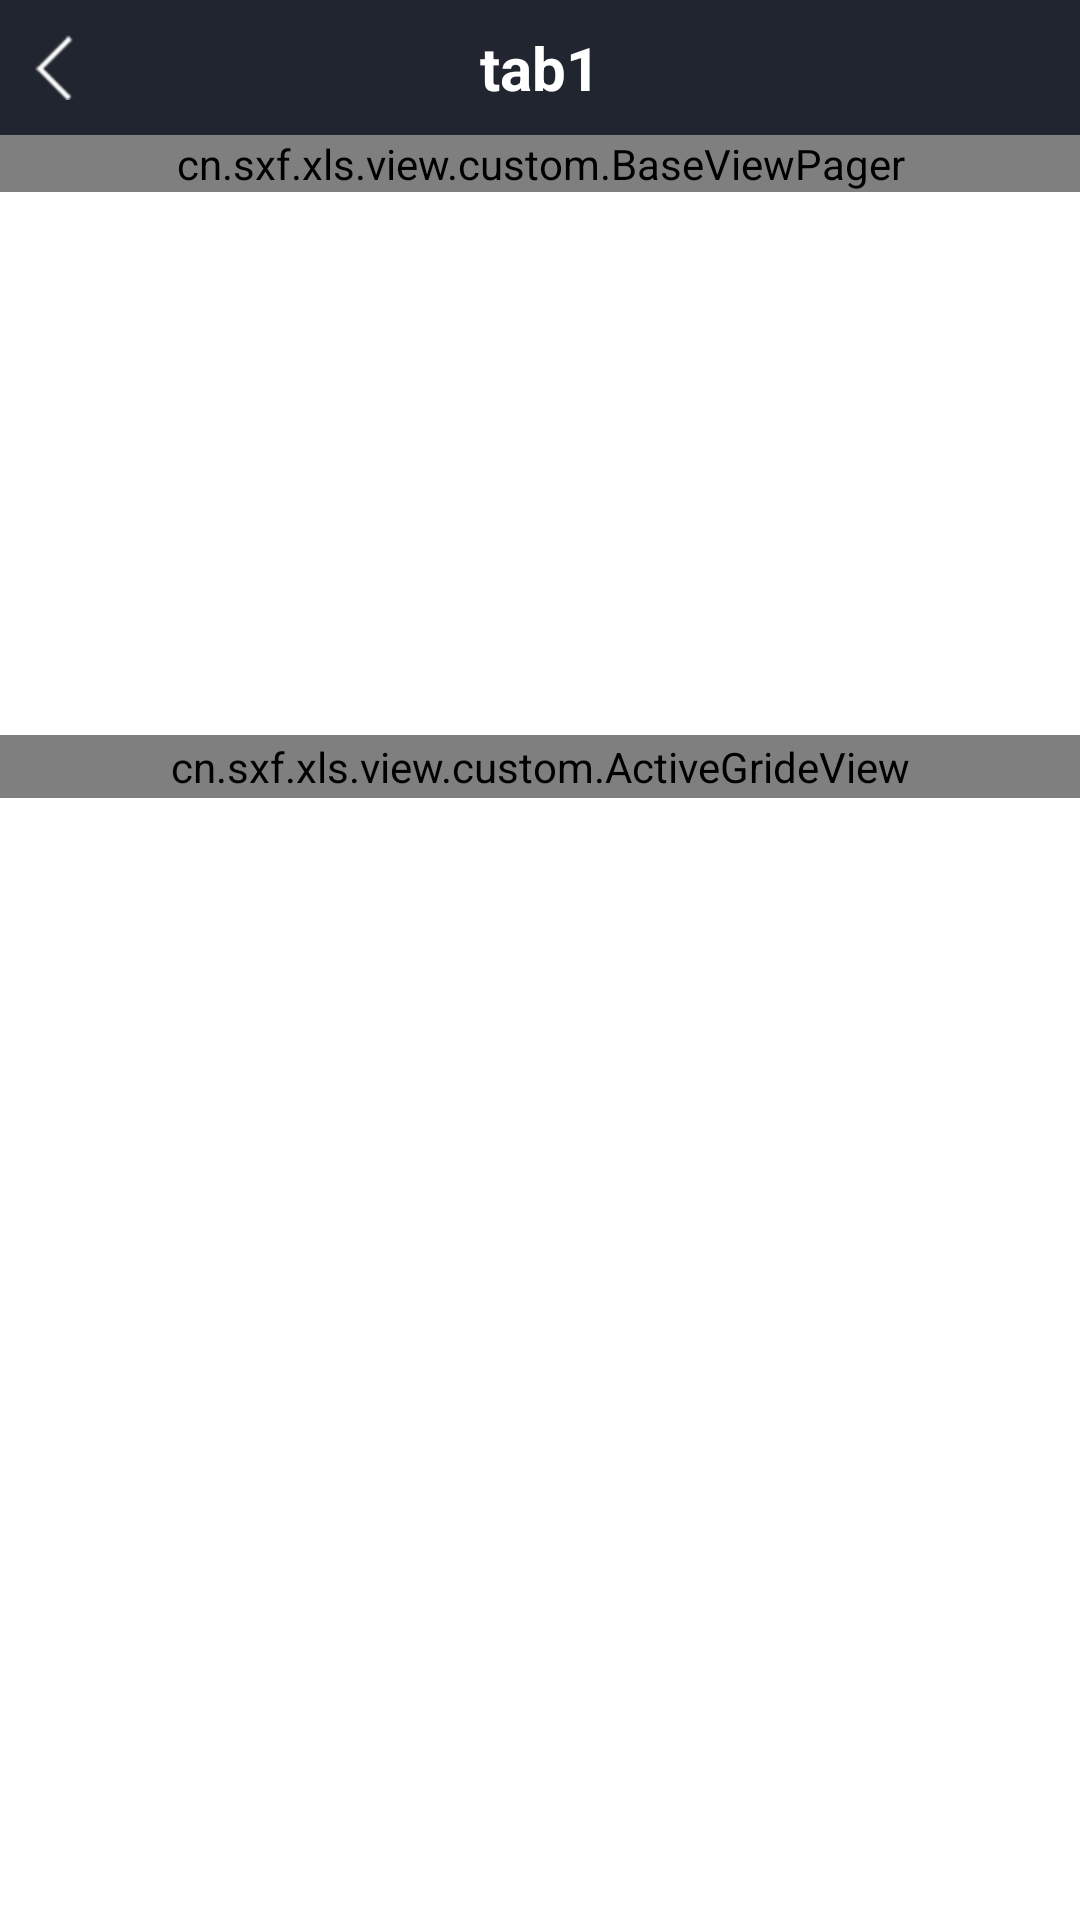

Screen size 1080*1920. Icon name, then its box in pixels as (x1, y1, x2, y2):
arrow: (35, 35, 73, 100)
